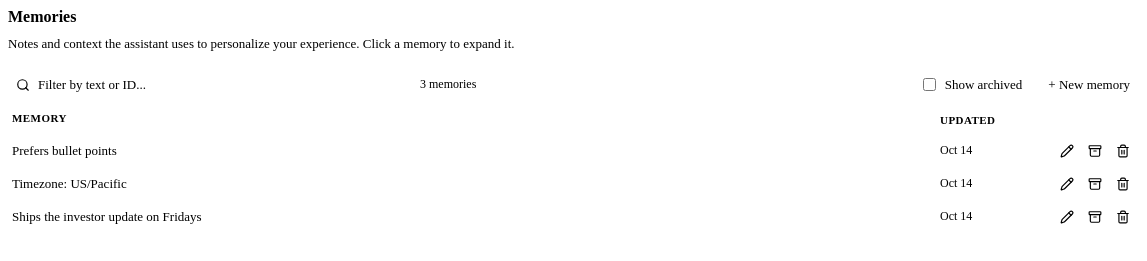
MemoriesSection › shows the id of an expanded memory
This screenshot has width=1147, height=261.
Click the button "Prefers bullet points". click: {"x": 64, "y": 151}
box: [12,143,117,158]
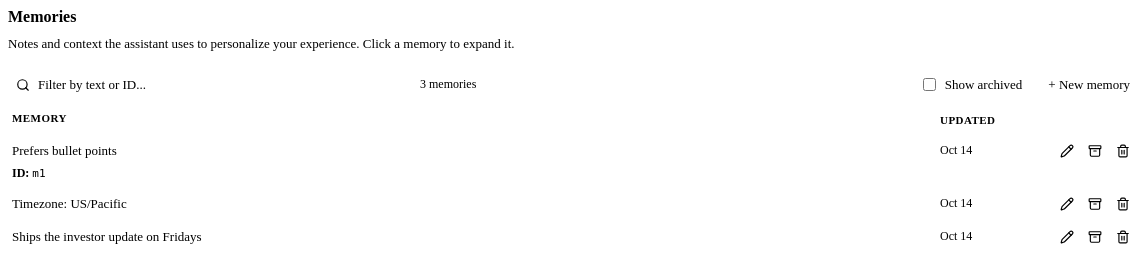
Check: the text "m1" is shown, box [32,167,46,180]
